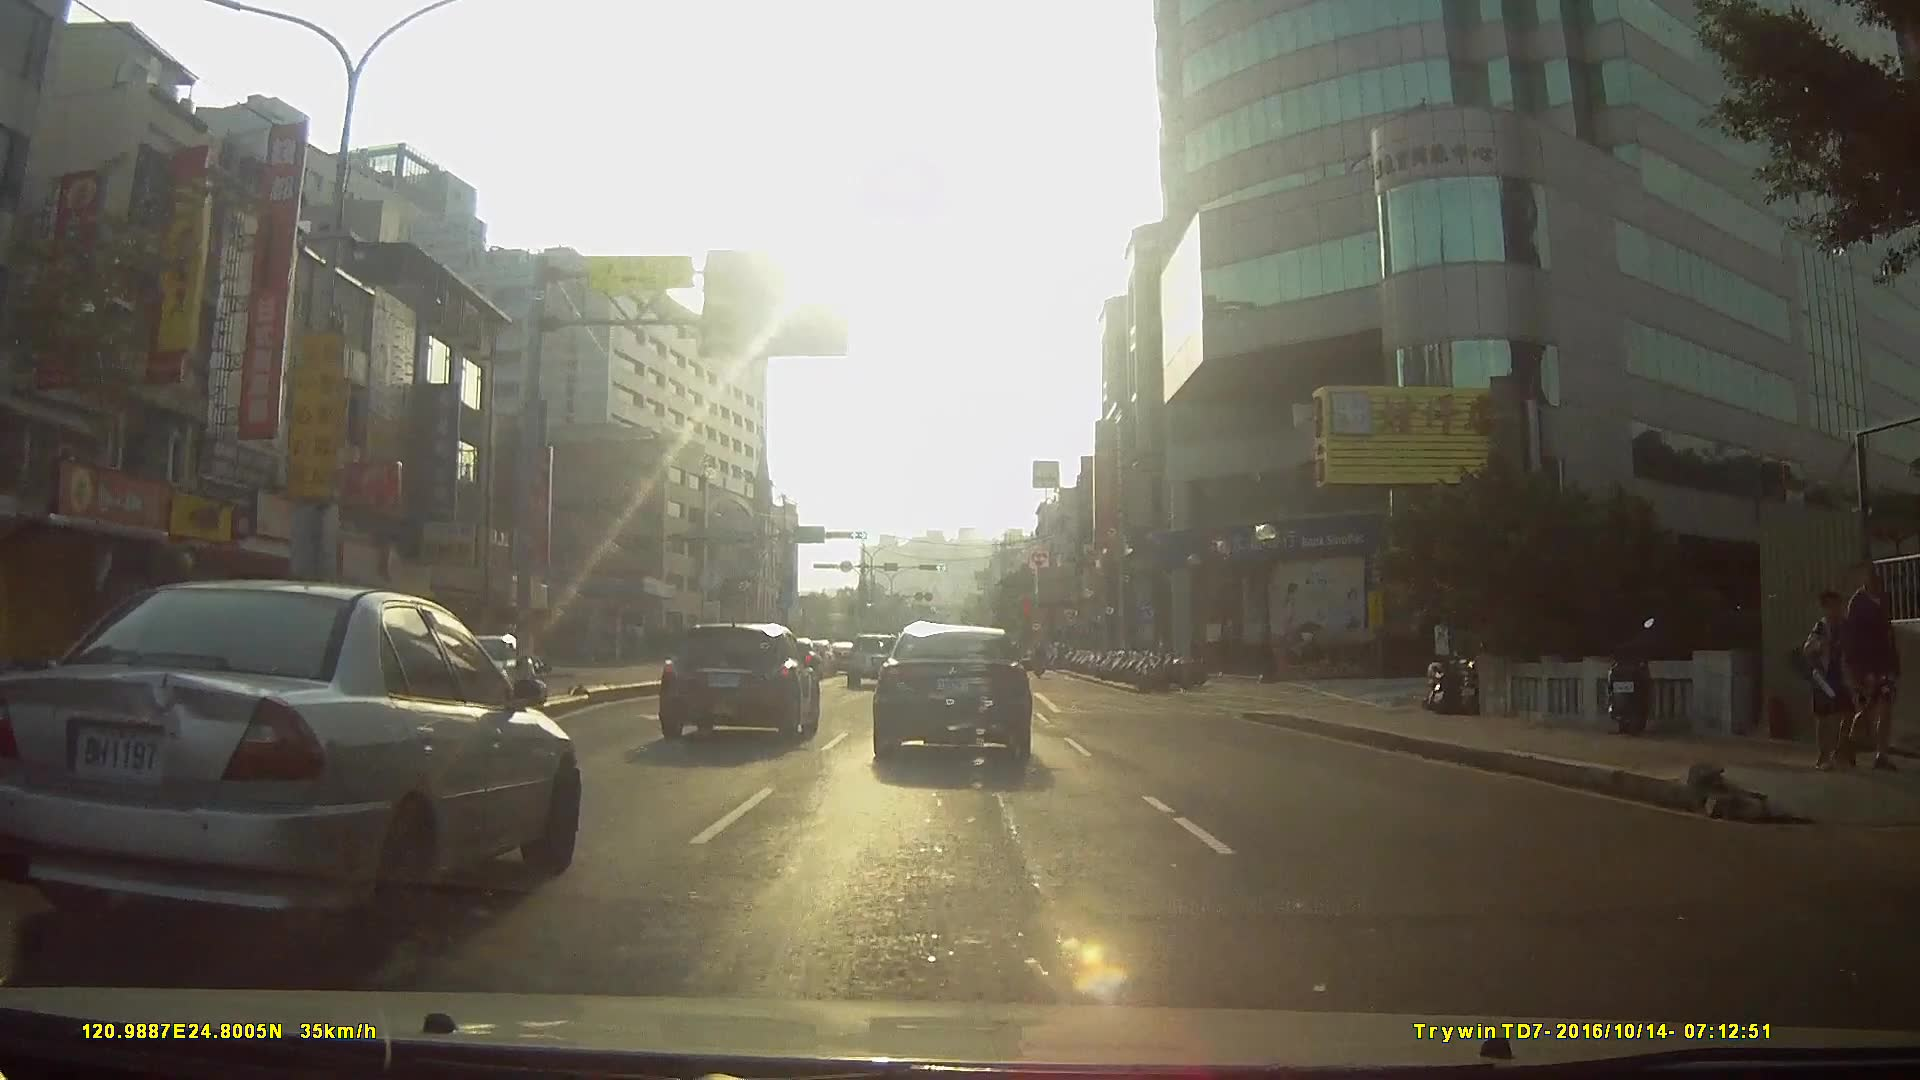pedestrian: (1833, 571, 1908, 772), (1794, 589, 1866, 772)
vehicle: (0, 571, 578, 954), (871, 617, 1033, 764), (655, 611, 820, 738), (844, 627, 904, 684)
